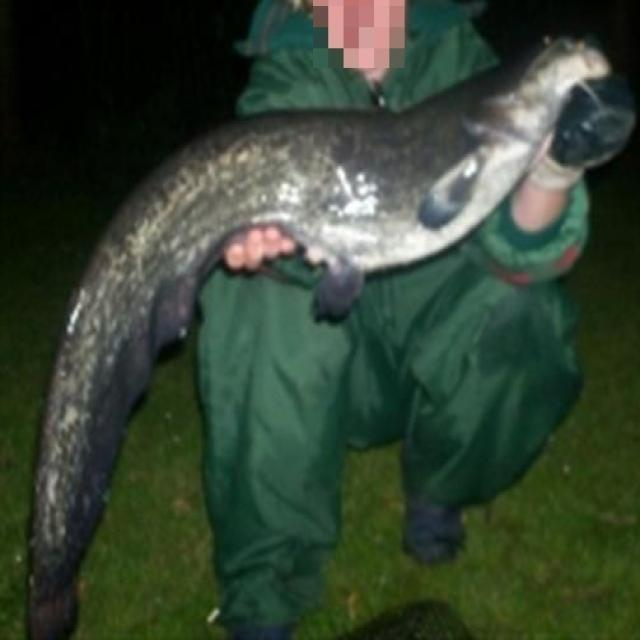Catfish: (16, 54, 600, 614)
